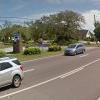Car: (60, 38, 89, 58)
